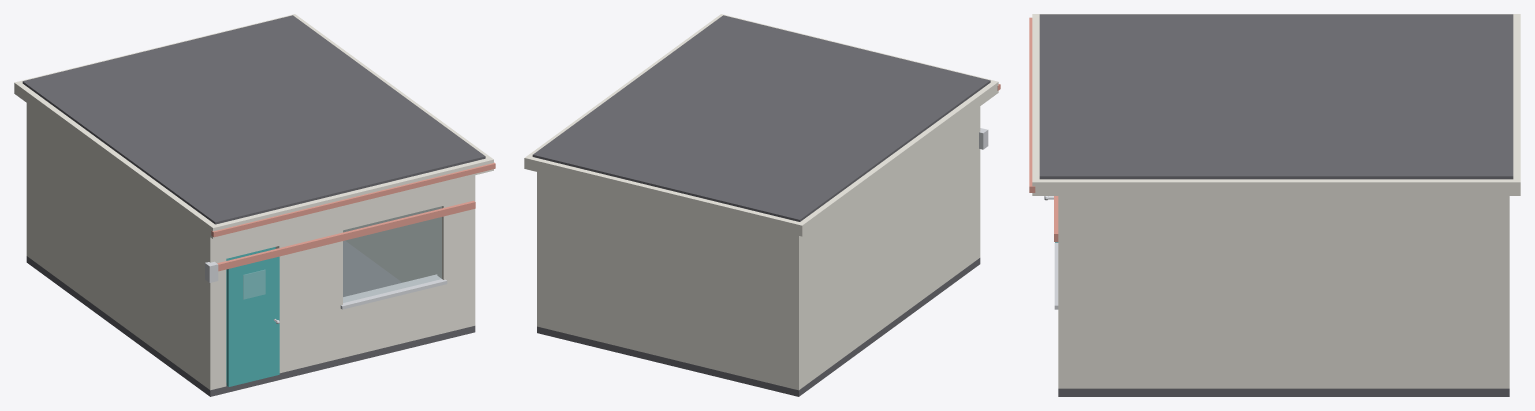
The model's file is retro-diner-and-roadside-motel-motel-room-block-narrow-2b6af7ee__37346.glb.
The picture shows the model from 3 angles, left to right: view 1: azimuth 30°, elevation 25°; view 2: azimuth 150°, elevation 25°; view 3: azimuth 270°, elevation 25°; orthographic projection. The views are drawn at different scales.
Parts seen in each view (by area): view 1: motel-room-block-narrow-cream, motel-room-block-narrow-asphalt, motel-room-block-narrow-glass, door-0/turquoise, motel-room-block-narrow-coral, motel-room-block-narrow-chrome, door-0/glass; view 2: motel-room-block-narrow-cream, motel-room-block-narrow-asphalt; view 3: motel-room-block-narrow-cream, motel-room-block-narrow-asphalt, motel-room-block-narrow-coral.
Boxes of the visible parts, x1=… form: motel-room-block-narrow-cream: x1=14, y1=14, x2=493, y2=390; motel-room-block-narrow-asphalt: x1=22, y1=15, x2=485, y2=396; motel-room-block-narrow-glass: x1=343, y1=206, x2=441, y2=302; door-0/turquoise: x1=226, y1=256, x2=279, y2=386; motel-room-block-narrow-coral: x1=211, y1=162, x2=495, y2=271; motel-room-block-narrow-chrome: x1=205, y1=261, x2=447, y2=309; door-0/glass: x1=243, y1=270, x2=265, y2=299; motel-room-block-narrow-cream: x1=524, y1=14, x2=998, y2=390; motel-room-block-narrow-asphalt: x1=532, y1=15, x2=990, y2=396; motel-room-block-narrow-cream: x1=1032, y1=14, x2=1520, y2=388; motel-room-block-narrow-asphalt: x1=1039, y1=14, x2=1513, y2=396; motel-room-block-narrow-coral: x1=1029, y1=17, x2=1058, y2=241.
Bounding box in the file's own units: 5.32 × 3.26 × 6.54.
